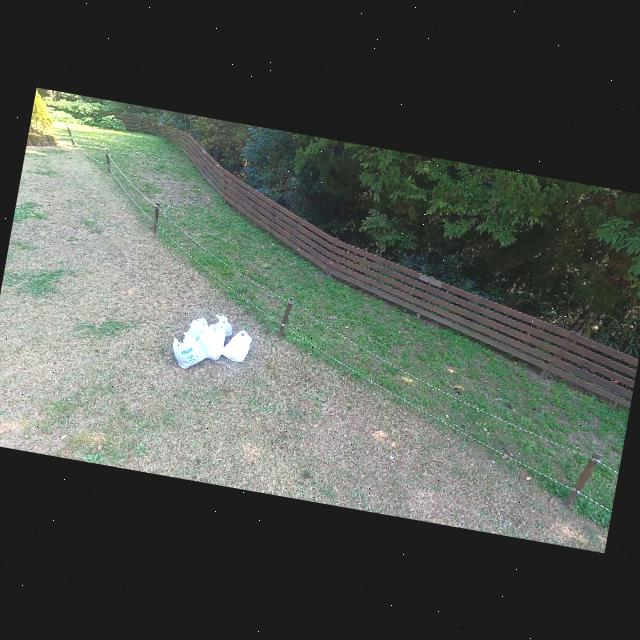trash: (168, 329, 210, 372), (194, 320, 230, 361), (220, 326, 254, 364), (182, 314, 212, 344), (209, 312, 236, 338)
